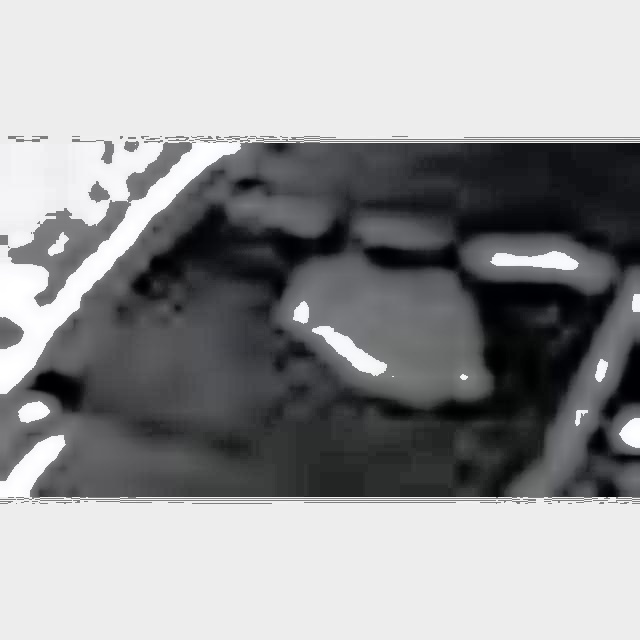tidak-pakai: (263, 234, 491, 429)
